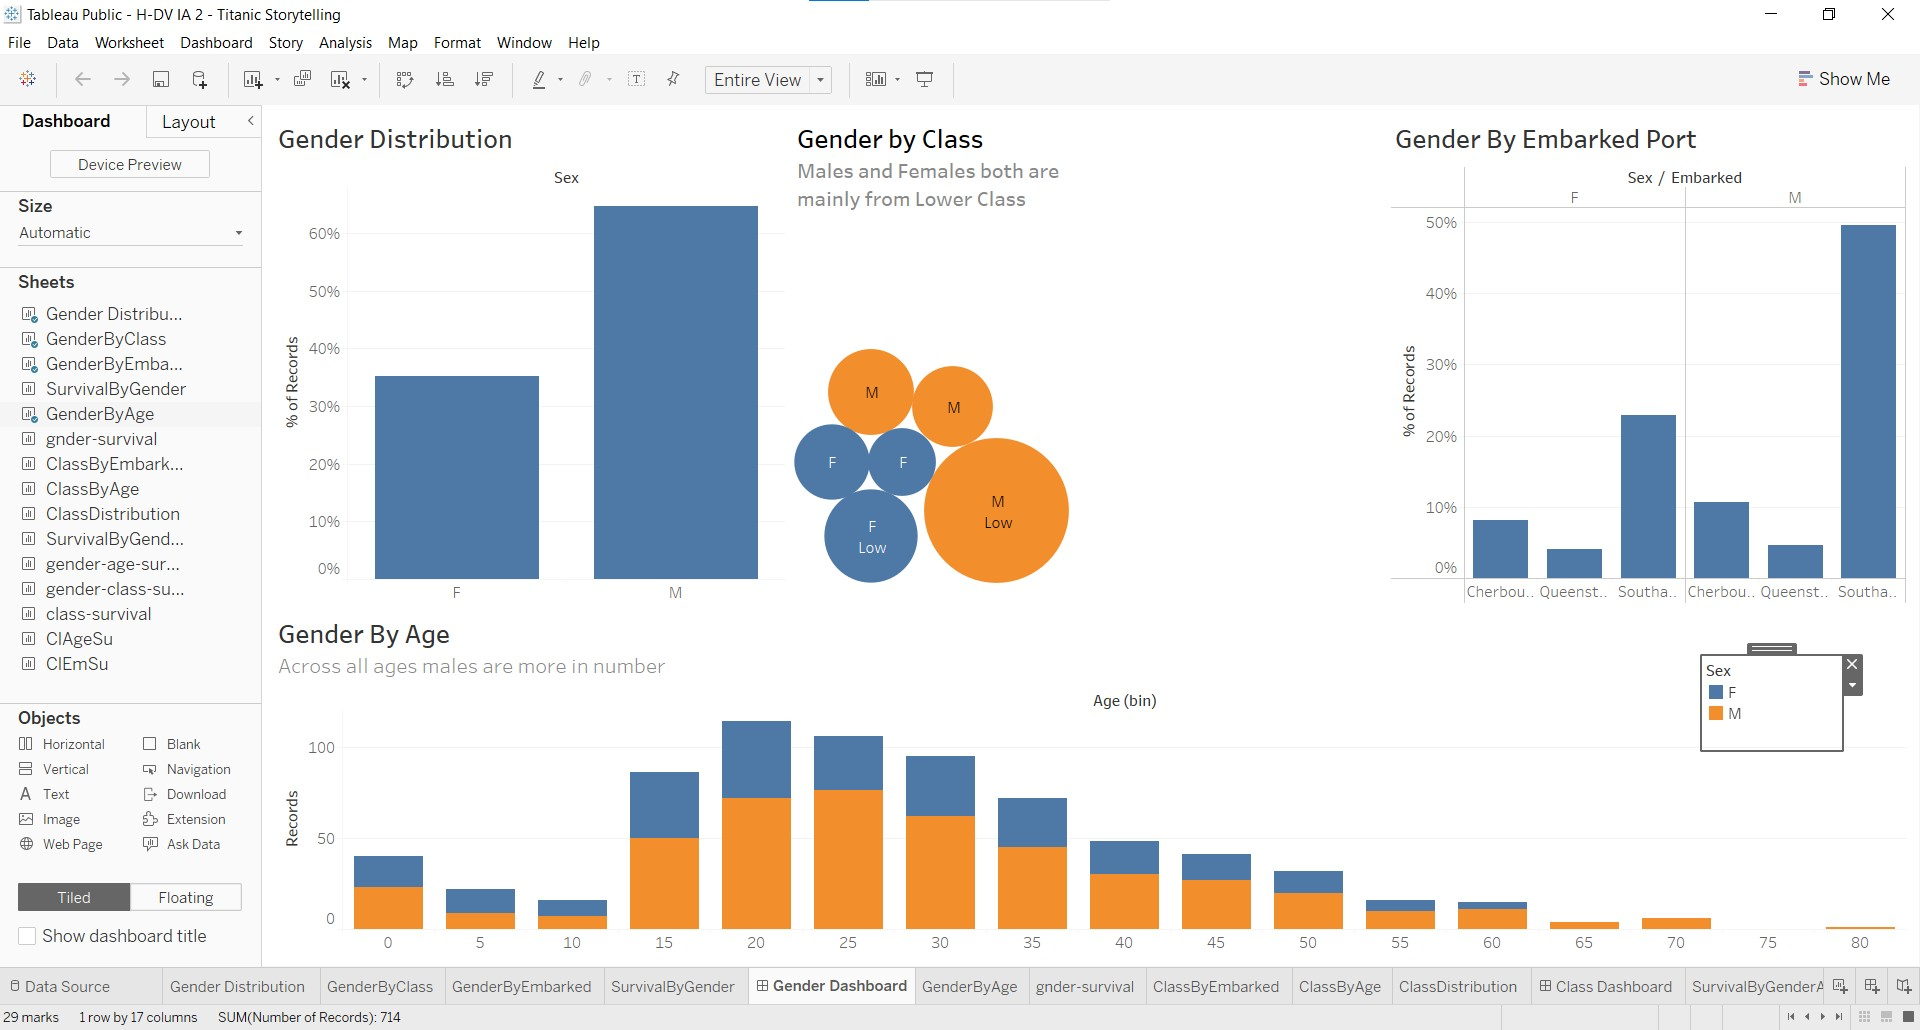

What the dashboard file says about the page in this screenshot:
{"tool":"tableau","page":{"name":"Gender Dashboard","canvas":[1000,1000],"units":"permille","ordinal":1},"visuals":[{"type":"worksheet","title":"Gender Distribution","mark":"Automatic","rows":["Number of Records"],"cols":["Sex"],"box":[4.8,9.3,313.3,574.9]},{"type":"worksheet","title":"GenderByClass","mark":"Circle","box":[318.1,9.3,360.8,574.9]},{"type":"worksheet","title":"GenderByEmbarked","mark":"Automatic","rows":["Number of Records"],"cols":["Sex","Embarked"],"box":[678.9,9.3,316.2,574.9]},{"type":"legend","title":"GenderByEmbarked","param":"[federated.1lpd77m006dcib10ukoc00imbeq4].[none:Embarked:nk]","box":[733.2,148.7,96.6,108]},{"type":"worksheet","title":"GenderByAge","mark":"Automatic","rows":["Number of Records"],"cols":["Age (bin)"],"box":[4.8,584.2,990.3,406.5]},{"type":"legend","title":"GenderByAge","param":"[federated.1lpd77m006dcib10ukoc00imbeq4].[none:Sex:nk]","box":[869,640,84.5,109.2]}]}

Visuals, with their boxes on the dashboard's canvas, which has no fixed pixel size, in thousandths of its width and height (x1, y1, x2, y2). These are canvas units, not pixel positions in the 1920x1030 screenshot, which may show the page scaled, cropped or inside an application window:
"Gender Distribution" worksheet: region(5, 9, 318, 584)
"GenderByClass" worksheet (Circle marks): region(318, 9, 679, 584)
"GenderByEmbarked" worksheet: region(679, 9, 995, 584)
"GenderByEmbarked" legend: region(733, 149, 830, 257)
"GenderByAge" worksheet: region(5, 584, 995, 991)
"GenderByAge" legend: region(869, 640, 954, 749)
